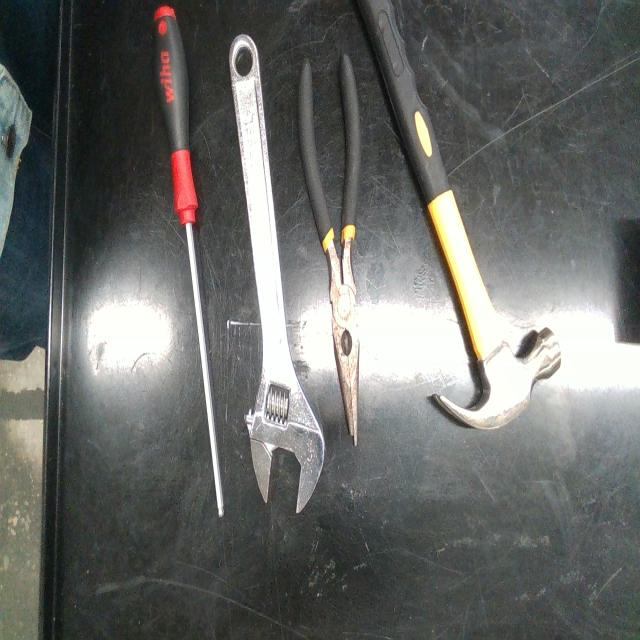Screwdriver: (154, 7, 224, 517)
